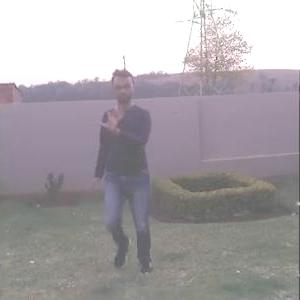follow_hand: (96, 103, 125, 133)
